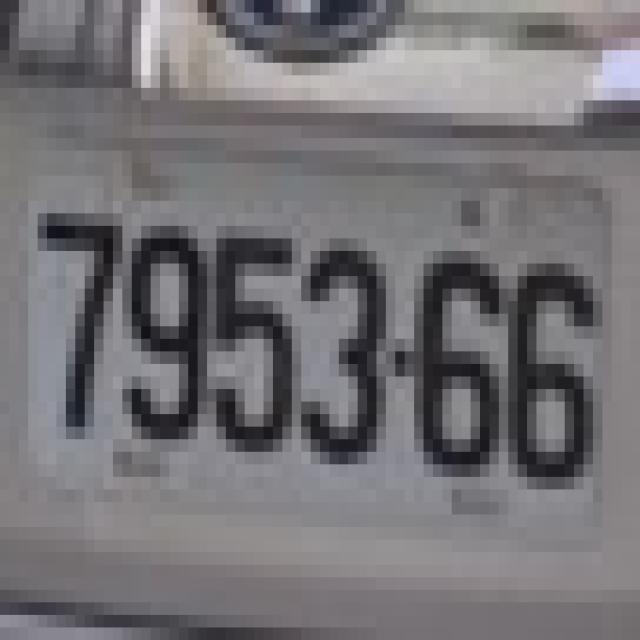license-plate: (21, 123, 611, 566)
